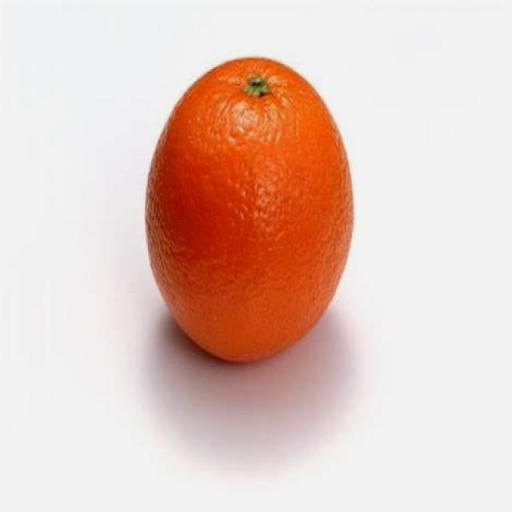fruit: (256, 116, 435, 412)
